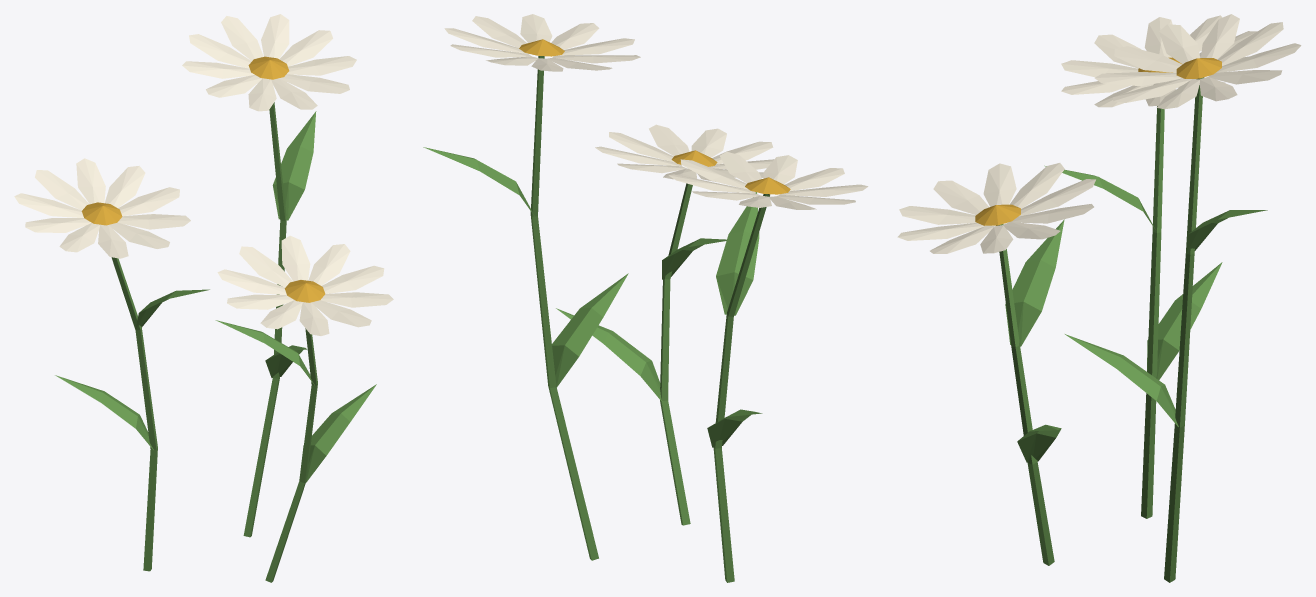
File: flower_daisy.glb
The picture shows the model from 3 angles, left to right: view 1: azimuth 30°, elevation 25°; view 2: azimuth 150°, elevation 25°; view 3: azimuth 270°, elevation 25°; orthographic projection. The views are drawn at different scales.
Visible parts, largest first — view 1: flower_daisy; view 2: flower_daisy; view 3: flower_daisy.
Boxes of the visible parts, x1,y1,x2,y2 form: flower_daisy: (14, 14, 393, 582); flower_daisy: (423, 14, 868, 582); flower_daisy: (897, 14, 1301, 582).
Size of the model in its own units: 0.2393 by 0.32 by 0.2111.
